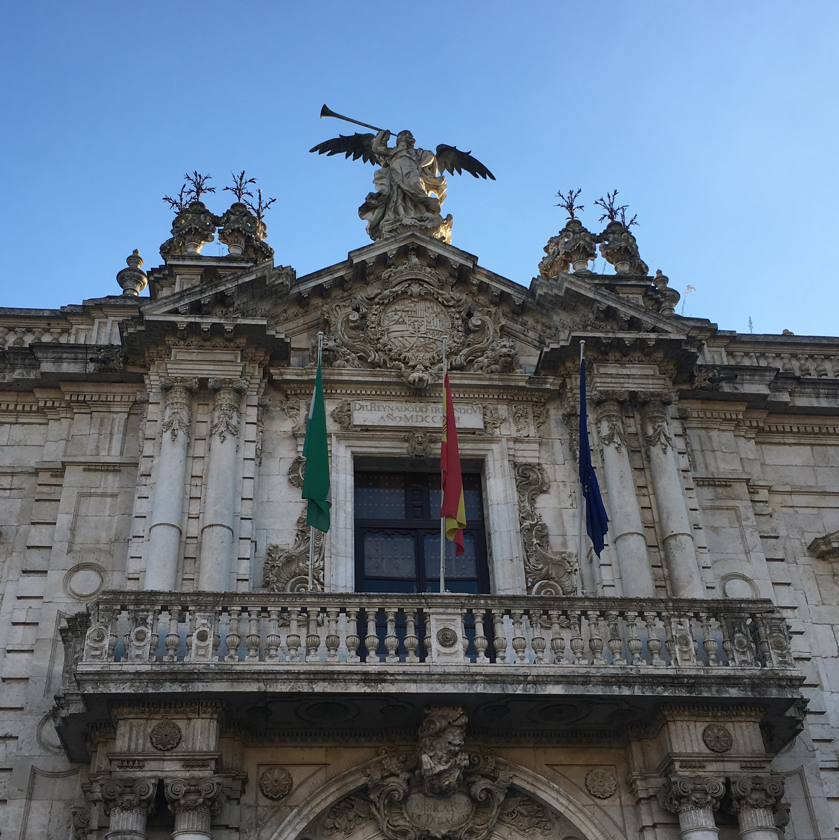fronton-partido: (129, 227, 704, 348)
vano-adintelado: (325, 423, 528, 669)
